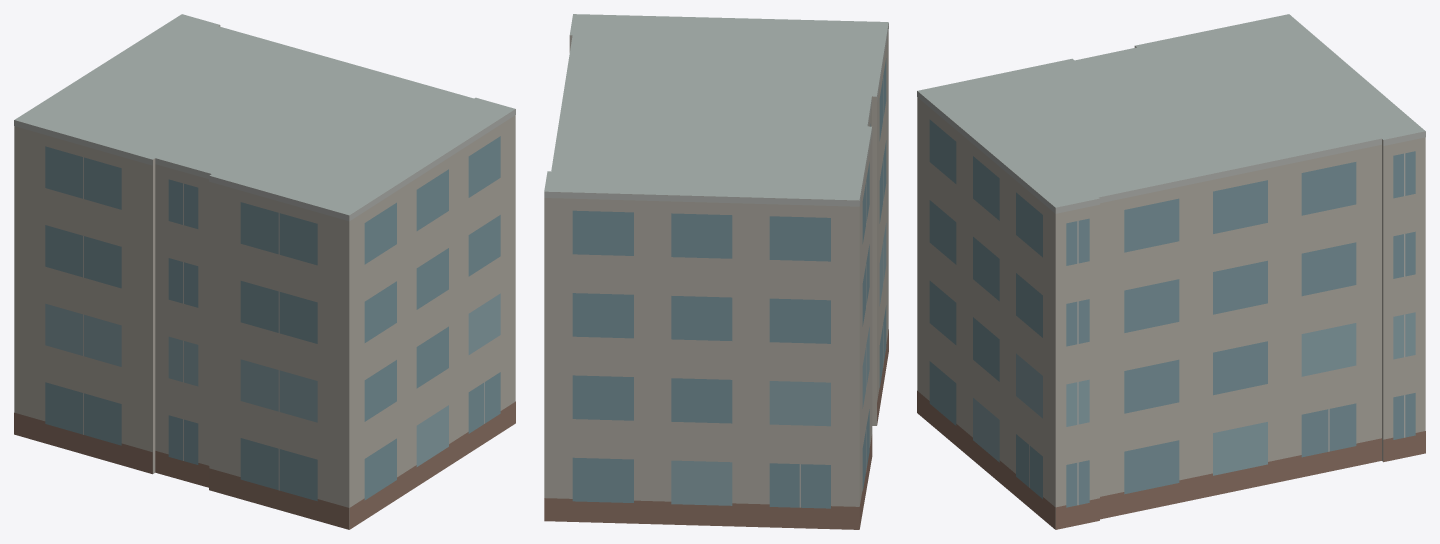
File: survey-upis-33042498.glb
3 renders of one model, left to right at view 1: azimuth 30°, elevation 25°; view 2: azimuth 150°, elevation 25°; view 3: azimuth 270°, elevation 25°, orthographic. The views are drawn at different scales.
Visible parts, largest first — view 1: survey-upis-33042498.tmp; view 2: survey-upis-33042498.tmp; view 3: survey-upis-33042498.tmp.
Part boxes in pixels (x1,y1,x2,y2): survey-upis-33042498.tmp: (14, 14, 515, 529); survey-upis-33042498.tmp: (544, 14, 888, 529); survey-upis-33042498.tmp: (917, 14, 1425, 529).
Bounding box in the file's own units: 16.52 × 12.8 × 18.32.
